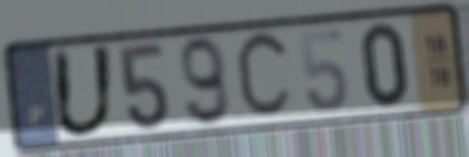0: (359, 21, 410, 110)
5: (114, 38, 171, 133), (297, 25, 350, 114)
9: (176, 34, 233, 128)
C: (232, 26, 295, 126)
U: (48, 43, 118, 141)
